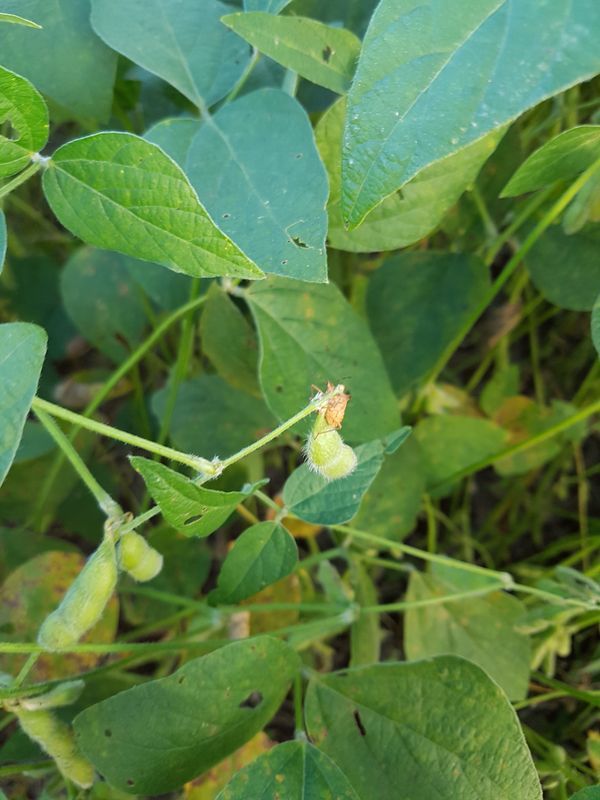Euschistus_heros_adulto: (303, 375, 357, 443)
